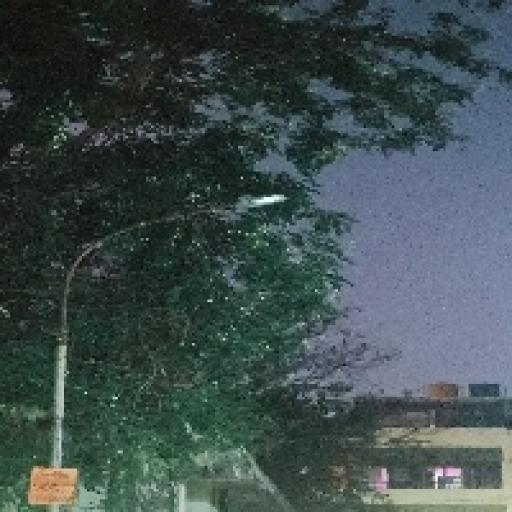Not Working: (215, 182, 292, 226)
